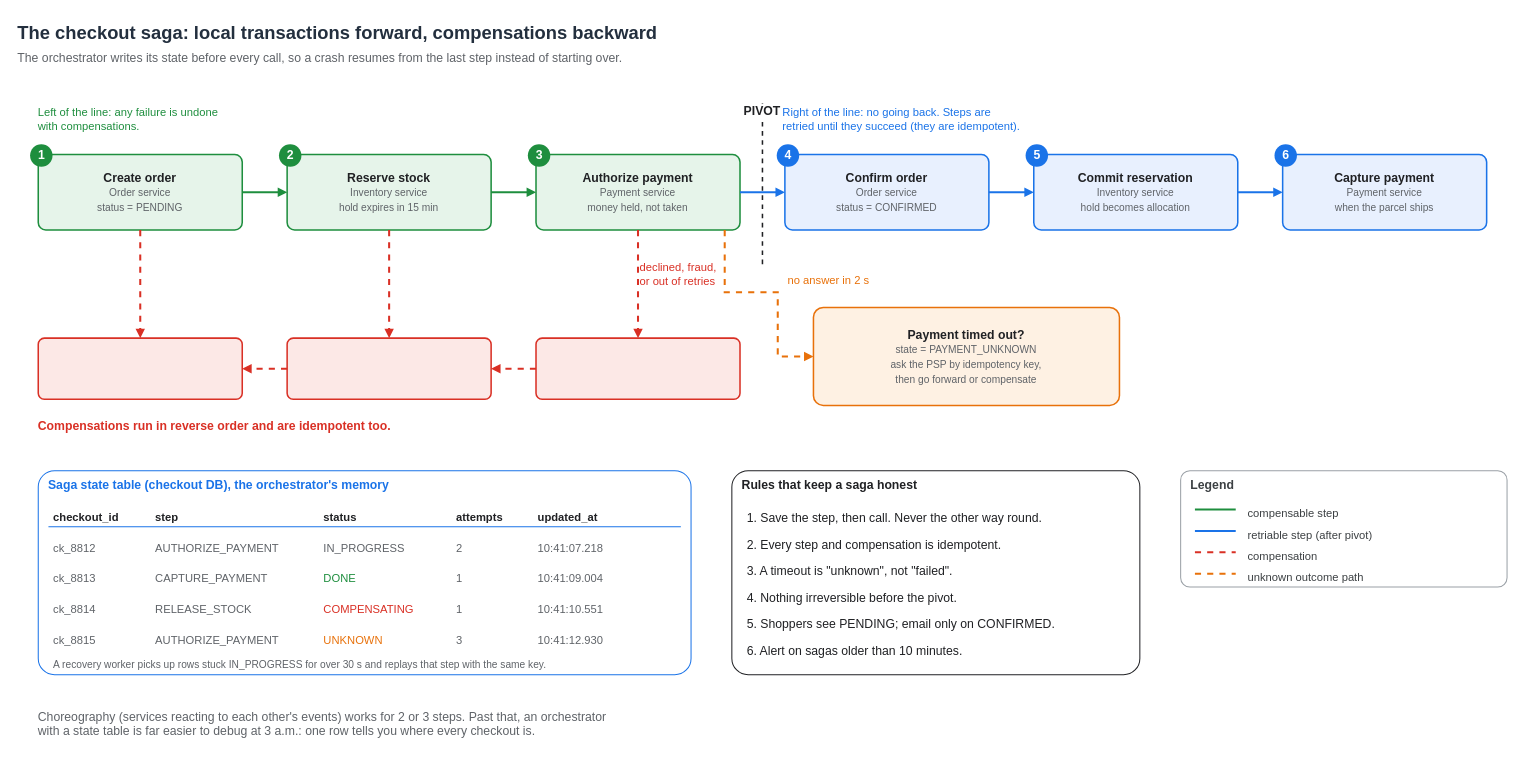
Image size: 1525x757. Some labels were removed from this diagram. The centre of each missing label's shape, as x and y in pixels:
C1 Cancel order status = CANCELLED, tell shopper: point 140,368
C2 Release stock reserved -= qty (if still held): point 388,368
C3 Void authorization only if PSP says AUTHORIZED: point 637,368
